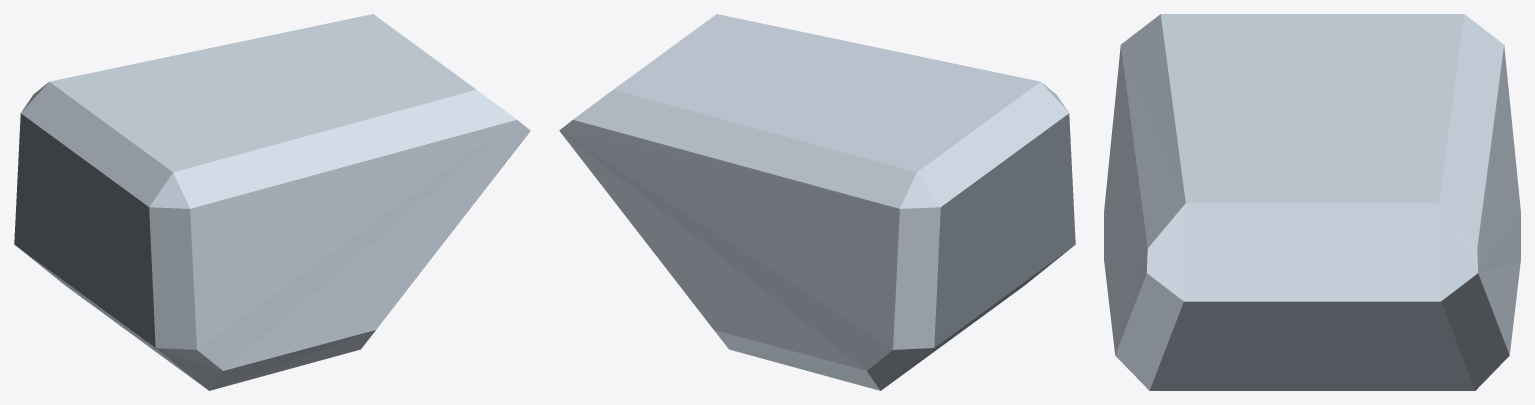
The model's file is Shoulder.FBX.
3 renders of one model, left to right at view 1: azimuth 30°, elevation 25°; view 2: azimuth 150°, elevation 25°; view 3: azimuth 270°, elevation 25°, orthographic. The views are drawn at different scales.
Parts seen in each view (by area): view 1: VIFS001, VIFS002; view 2: VIFS001, VIFS002; view 3: VIFS001, VIFS002.
Part boxes in pixels (bbox=[...]): VIFS001: bbox=[21, 14, 530, 390]; VIFS002: bbox=[14, 113, 206, 388]; VIFS001: bbox=[559, 14, 1068, 390]; VIFS002: bbox=[883, 113, 1075, 388]; VIFS001: bbox=[1104, 14, 1520, 390]; VIFS002: bbox=[1149, 301, 1475, 390].
Bounding box in the file's own units: 0.597 × 0.318 × 0.449.
